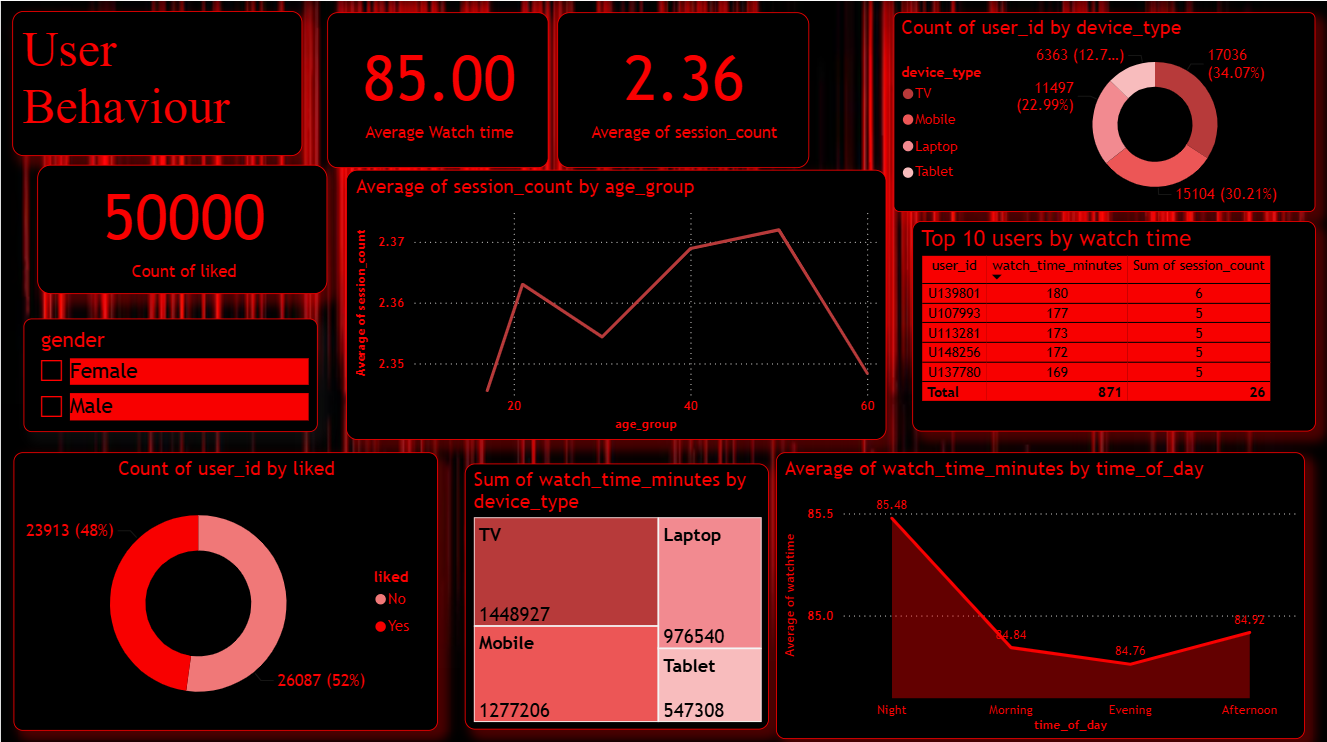

This screenshot's page, from the dashboard's own definition file:
{"tool":"powerbi","page":{"name":"UB","canvas":[1280,720],"ordinal":1},"visuals":[{"type":"textbox","box":[11,9.6,279.9,140],"z":0},{"type":"cardVisual","fields":{"Data":["Avg(archive.watch_time_minutes)"]},"box":[314.9,10.3,213.3,150.4],"z":1000},{"type":"cardVisual","fields":{"Data":["Avg(archive.session_count)"]},"box":[537.2,10.3,242.9,150.4],"z":2000},{"type":"cardVisual","fields":{"Data":["CountNonNull(archive.liked)"]},"box":[34.7,158.1,280.2,124.7],"z":3000},{"type":"treemap","fields":{"Group":["archive.device_type"],"Values":["Sum(archive.watch_time_minutes)"]},"box":[447.3,446,293.7,256.6],"z":4000},{"type":"lineChart","fields":{"Y":["Avg(archive.session_count)"],"Category":["archive.age_group"]},"box":[333.4,163.3,521.4,260.7],"z":5000},{"type":"donutChart","fields":{"Category":["archive.liked"],"Y":["CountNonNull(archive.user_id)"]},"box":[11.6,435.7,410,268.6],"z":6000},{"type":"areaChart","fields":{"Category":["archive.time_of_day"],"Y":["Avg(archive.watch_time_minutes)"]},"box":[747.9,435,510.5,277.2],"z":7000},{"type":"donutChart","fields":{"Category":["archive.device_type"],"Y":["CountNonNull(archive.user_id)"]},"box":[861,10.3,407.4,192.8],"z":8000},{"type":"slicer","fields":{"Values":["archive.gender"]},"box":[21.8,305.9,284,109.2],"z":9000},{"type":"tableEx","title":"Top 10 users by watch time","fields":{"Values":["archive.user_id","Sum(archive.watch_time_minutes)","Sum(archive.session_count)"]},"box":[879,212,389.4,203.1],"z":10000}]}

Visuals, with their boxes in screenshot pixels (x1, y1, x2, y2), scaled from the page's 1280x720 canvas onto the 1327x742 screenshot:
textbox: [11,10,302,154]
cardVisual - Avg(archive.watch_time_minutes): [326,11,548,166]
cardVisual - Avg(archive.session_count): [557,11,809,166]
cardVisual - CountNonNull(archive.liked): [36,163,326,291]
treemap - archive.device_type x Sum(archive.watch_time_minutes): [464,460,768,724]
lineChart - Avg(archive.session_count) x archive.age_group: [346,168,886,437]
donutChart - archive.liked x CountNonNull(archive.user_id): [12,449,437,726]
areaChart - archive.time_of_day x Avg(archive.watch_time_minutes): [775,448,1305,734]
donutChart - archive.device_type x CountNonNull(archive.user_id): [893,11,1315,209]
slicer - archive.gender: [23,315,317,428]
"Top 10 users by watch time" tableEx: [911,218,1315,428]
